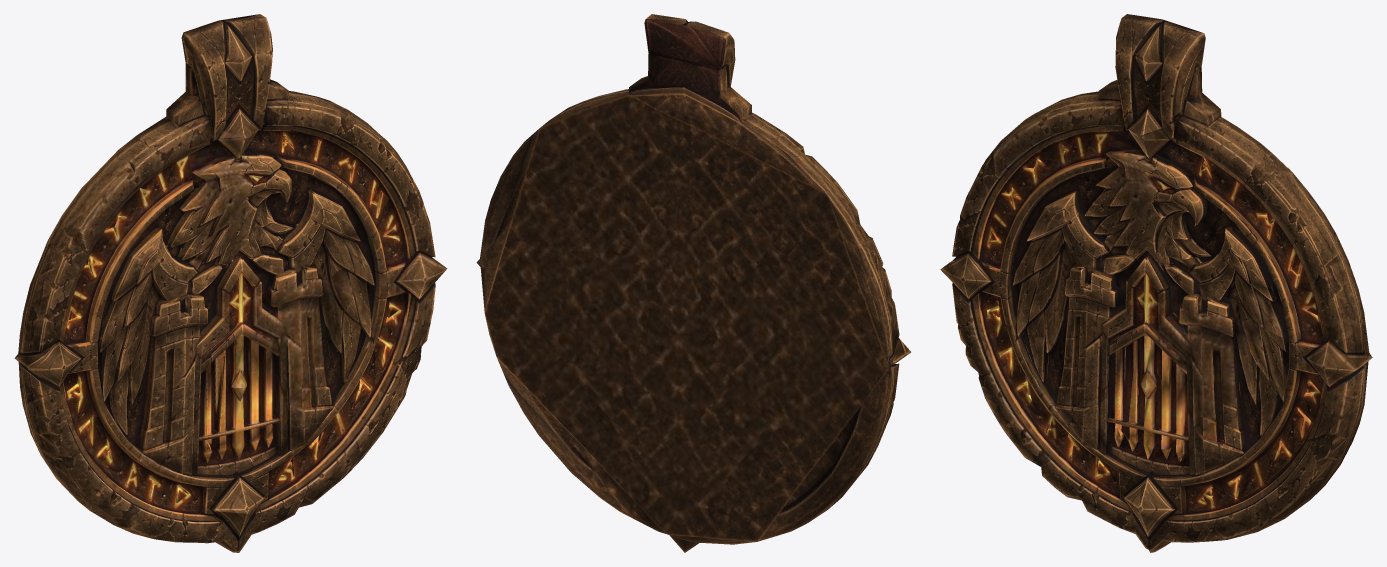
The model's file is wardens_oath.glb.
3 views of the same model, side by side, from view 1: azimuth 30°, elevation 25°; view 2: azimuth 150°, elevation 25°; view 3: azimuth 330°, elevation 25° (orthographic).
Size of the model in its own units: 1.66 by 2 by 0.1792.
1 material, 1 textured.
